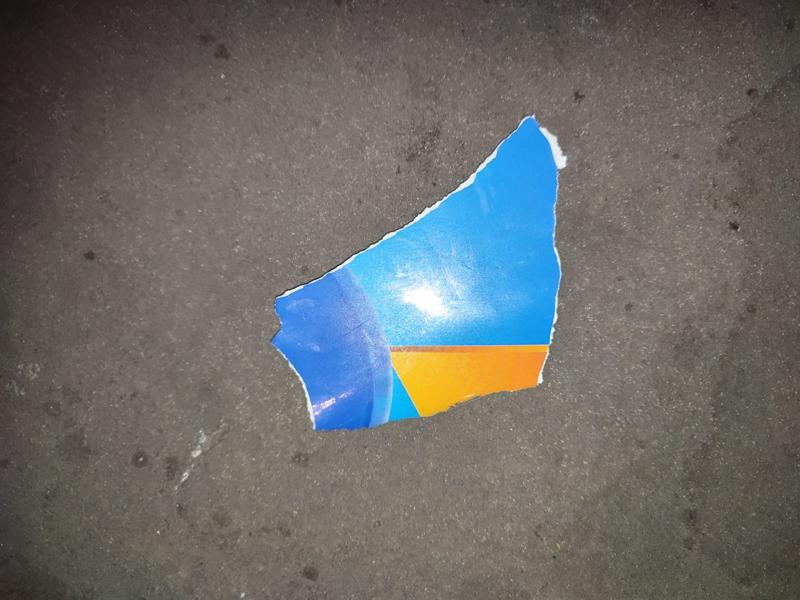papel: (272, 116, 567, 433)
